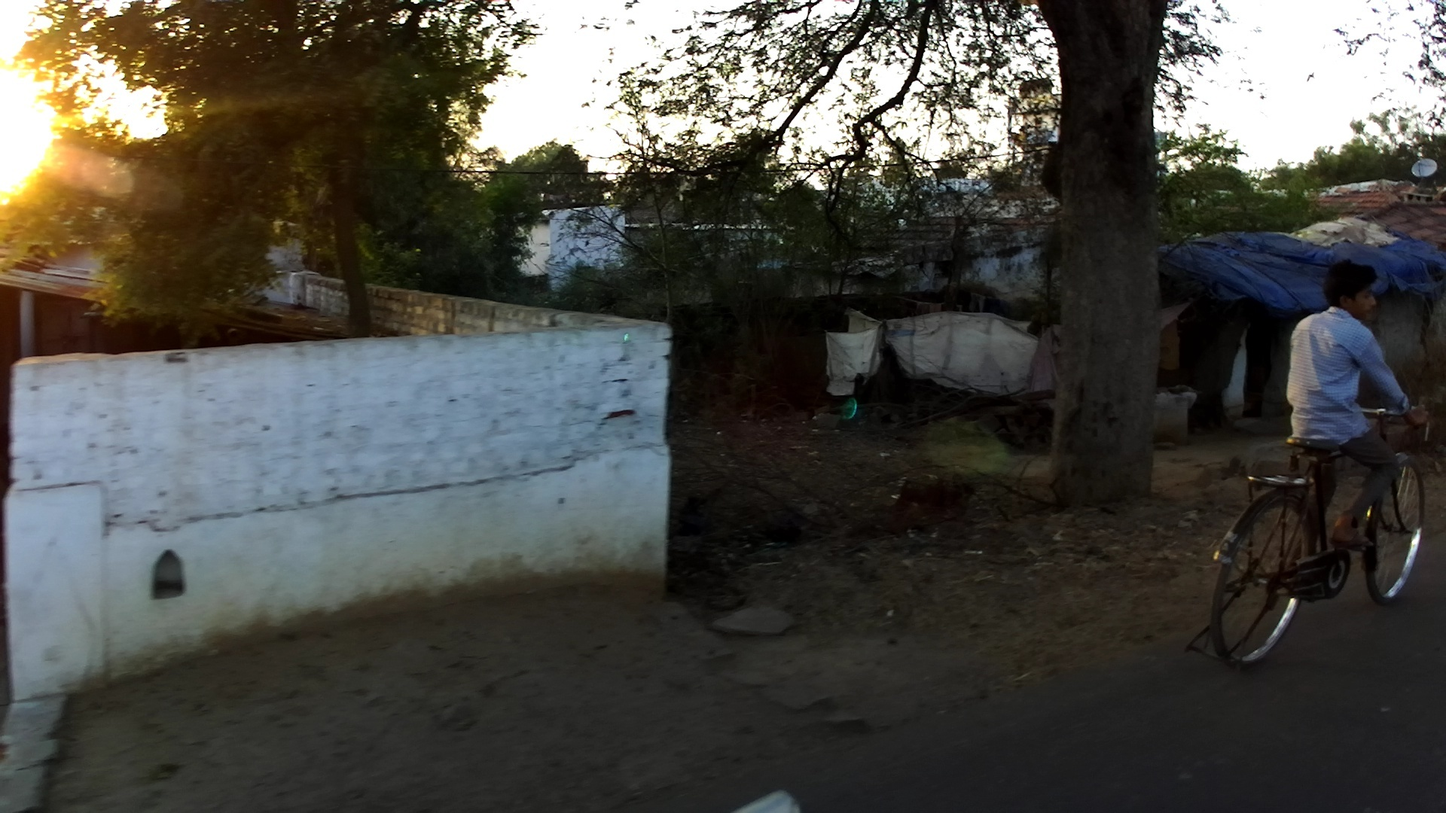bicycle: (1181, 400, 1446, 675)
rider: (1285, 260, 1430, 556)
